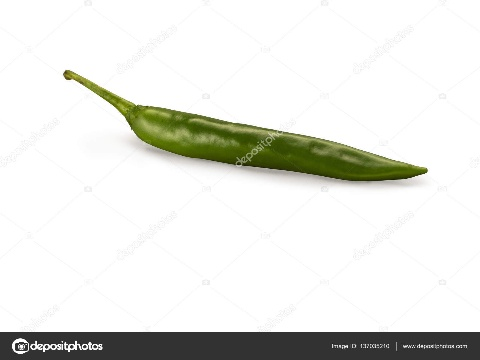Chilli: (49, 58, 434, 201)
